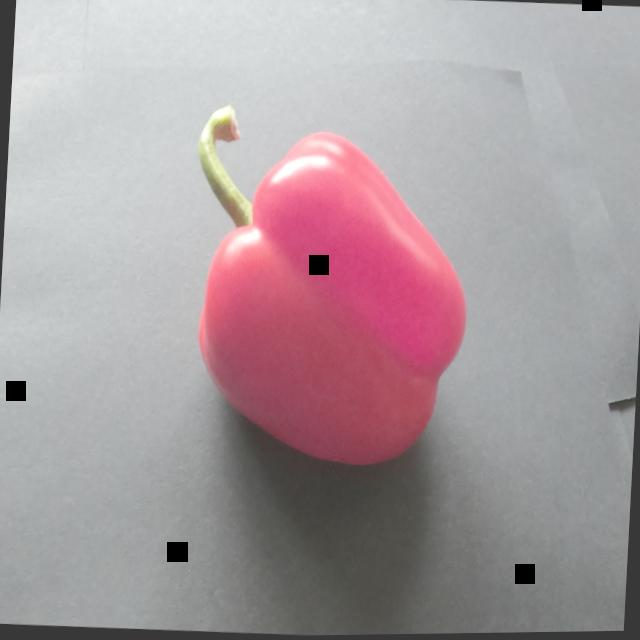Redpepper: (157, 80, 513, 519)
